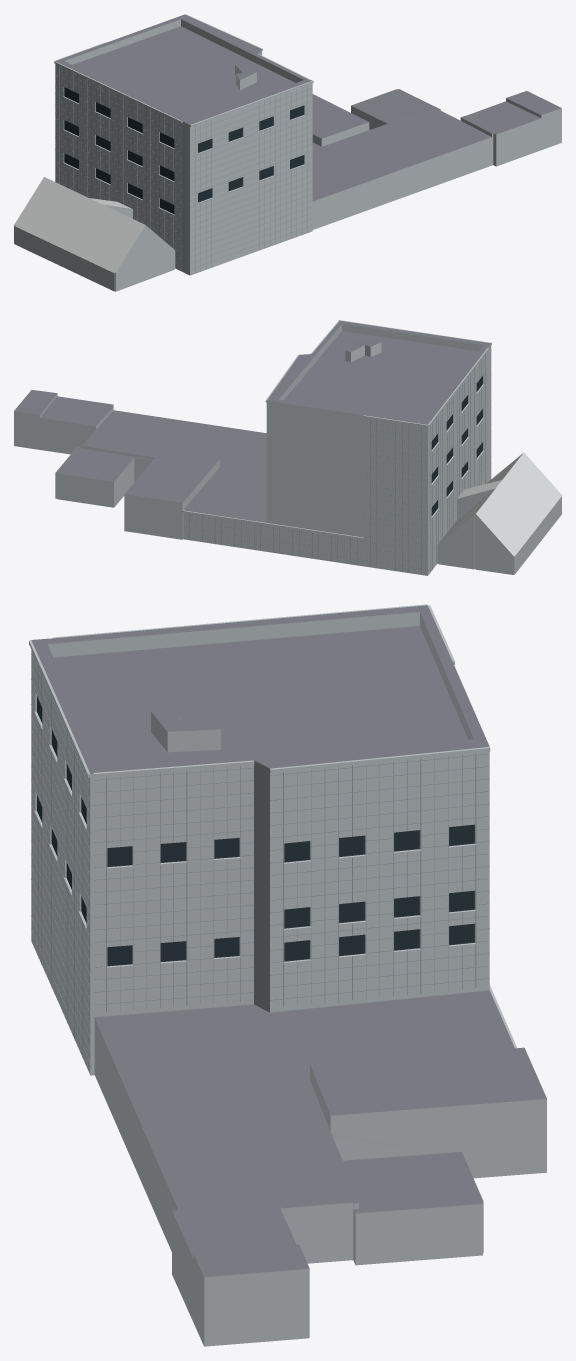
Rendered from recipe-large-grasweg-41-201637.glb.
3 renders of one model, top to bottom at view 1: azimuth 30°, elevation 25°; view 2: azimuth 150°, elevation 25°; view 3: azimuth 270°, elevation 25°, orthographic. The views are drawn at different scales.
Visible parts, largest first — view 1: grasweg-41-201637; view 2: grasweg-41-201637; view 3: grasweg-41-201637.
Part boxes in pixels (x1,y1,x2,y2): grasweg-41-201637: (14, 14, 561, 291); grasweg-41-201637: (14, 320, 561, 575); grasweg-41-201637: (29, 604, 546, 1346).
Bounding box in the file's own units: 130 × 37.07 × 56.48.
